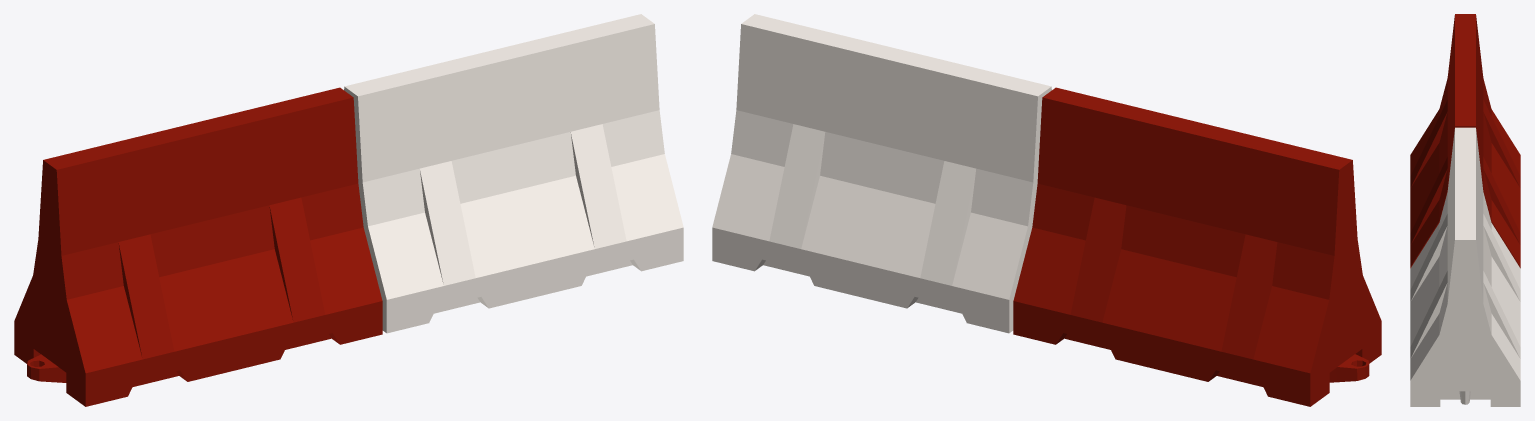
File: LP_Road Barrier_02.fbx
The picture shows the model from 3 angles, left to right: view 1: azimuth 30°, elevation 25°; view 2: azimuth 150°, elevation 25°; view 3: azimuth 270°, elevation 25°; orthographic projection. The views are drawn at different scales.
Parts seen in each view (by area): view 1: road barrier.005, LP_Road Barrier_02; view 2: road barrier.005, LP_Road Barrier_02; view 3: LP_Road Barrier_02, road barrier.005.
Part boxes in pixels (<box>): road barrier.005: <box>14,87,382,406</box>; LP_Road Barrier_02: <box>344,14,683,333</box>; road barrier.005: <box>1013,87,1381,406</box>; LP_Road Barrier_02: <box>712,14,1051,333</box>; LP_Road Barrier_02: <box>1410,127,1520,406</box>; road barrier.005: <box>1410,14,1520,268</box>.
Size of the model in its own units: 3.2 by 1.07 by 0.6392.
